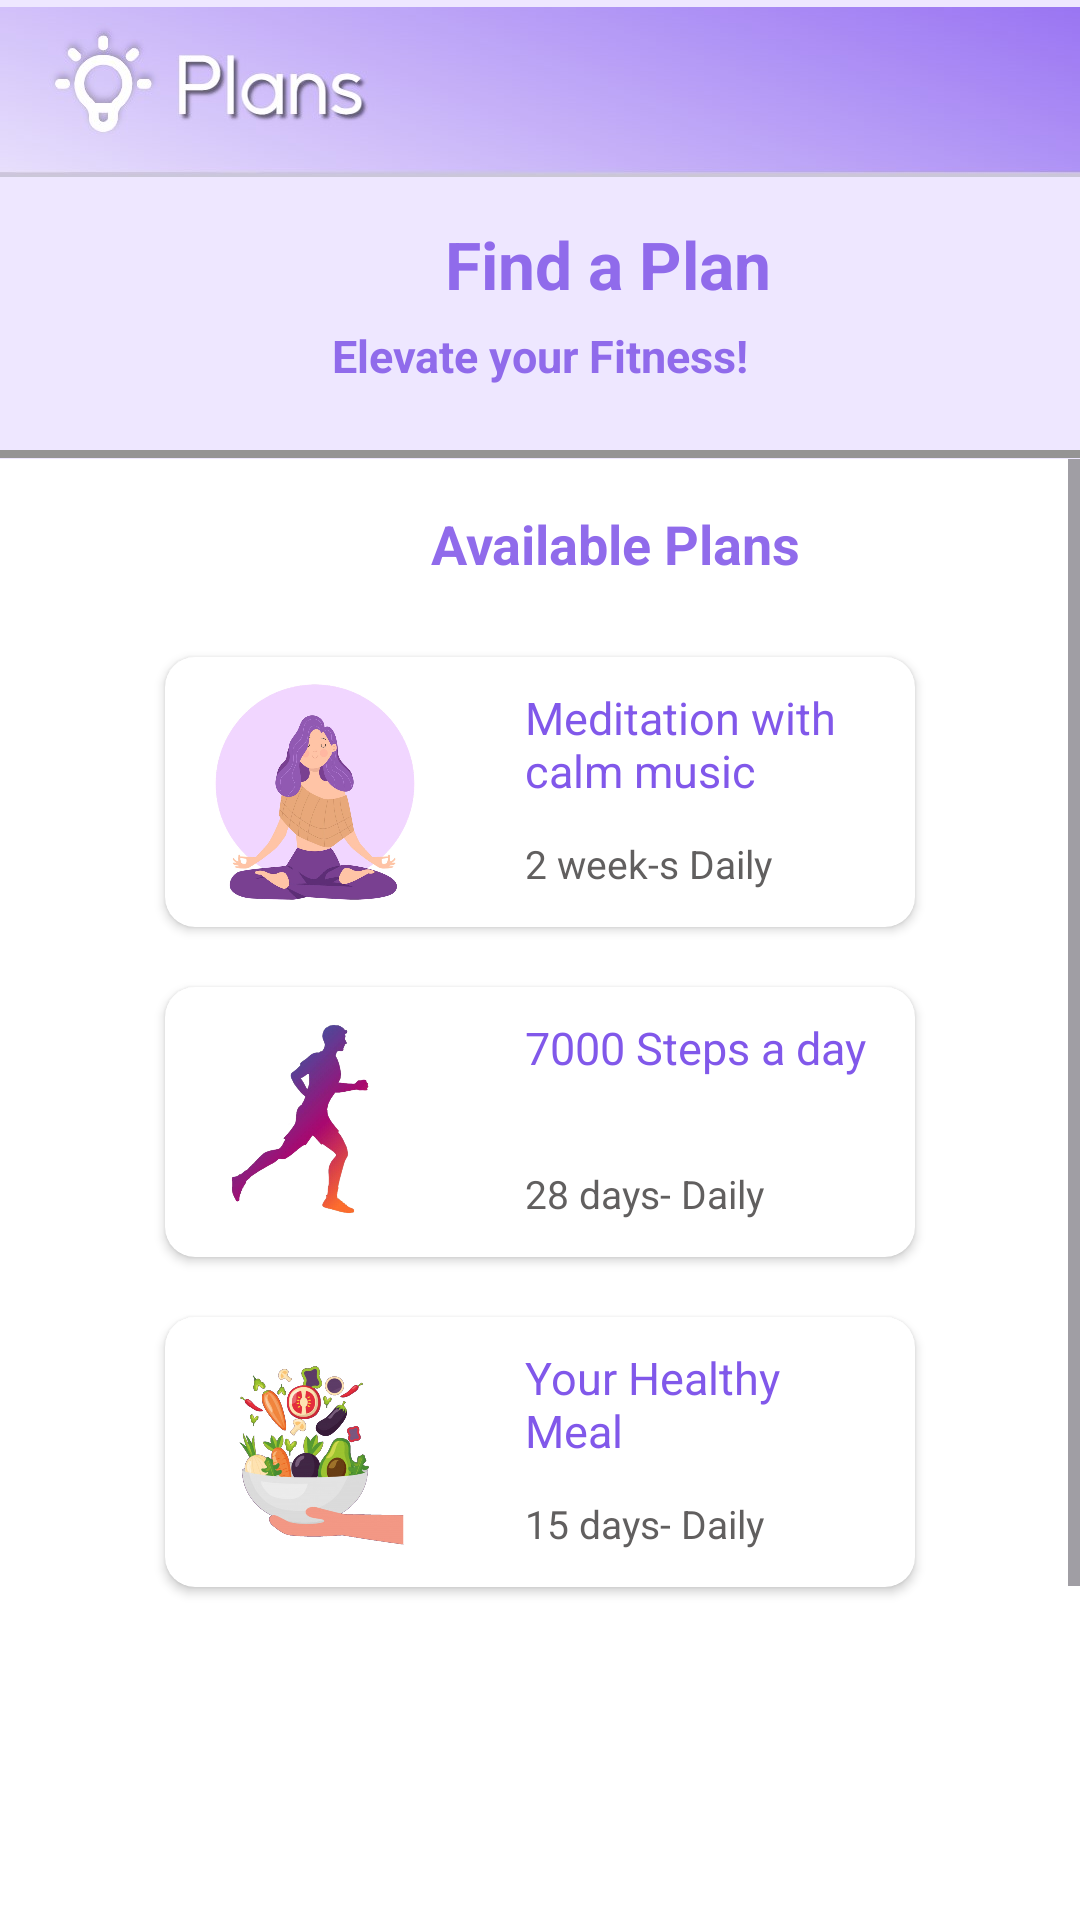

Point at icon controls on the screen. Image size 1080 × 1920, points as (x,y).
jog: (300,1119)
vege: (321,1455)
